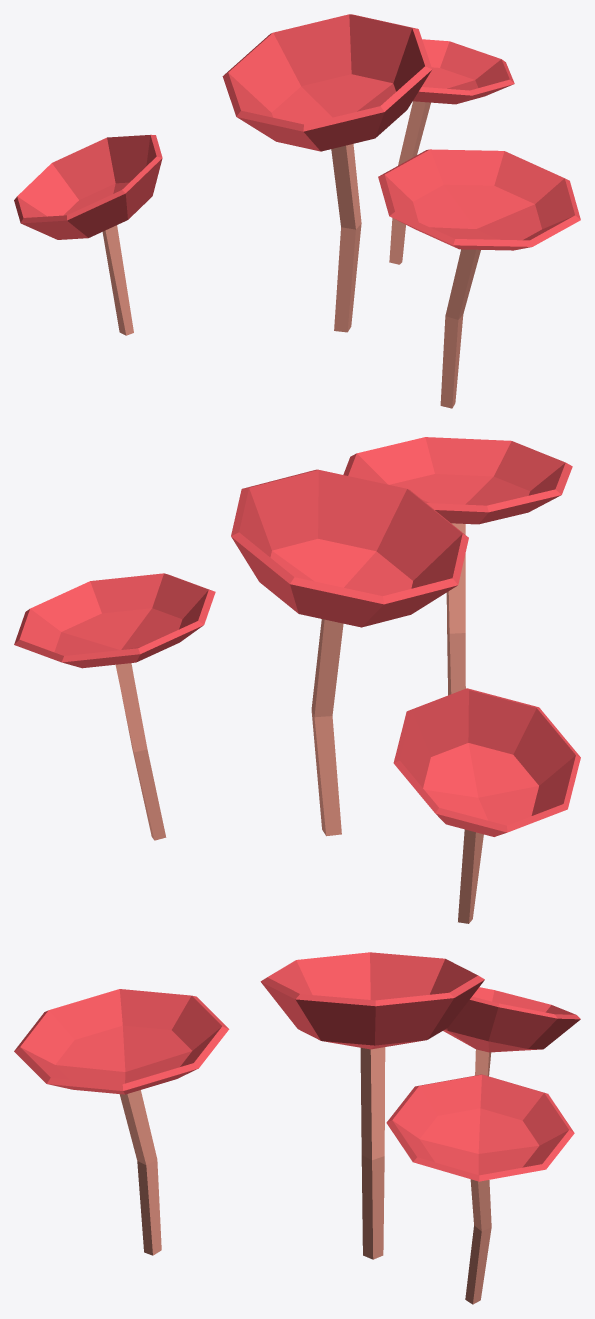
The model's file is Mushroom_d_04.fbx.
3 views of the same model, one above another, from view 1: azimuth 30°, elevation 25°; view 2: azimuth 150°, elevation 25°; view 3: azimuth 270°, elevation 25° (orthographic). The views are drawn at different scales.
Parts seen in each view (by area): view 1: Mushroom_d_04; view 2: Mushroom_d_04; view 3: Mushroom_d_04.
Boxes of the visible parts, x1,y1,x2,y2 form: Mushroom_d_04: (14,14,580,408); Mushroom_d_04: (14,437,580,923); Mushroom_d_04: (14,952,580,1304).
Size of the model in its own units: 53.19 by 30.04 by 53.12.
